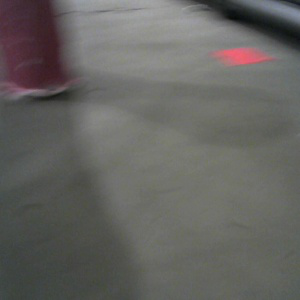right: (1, 1, 71, 101)
